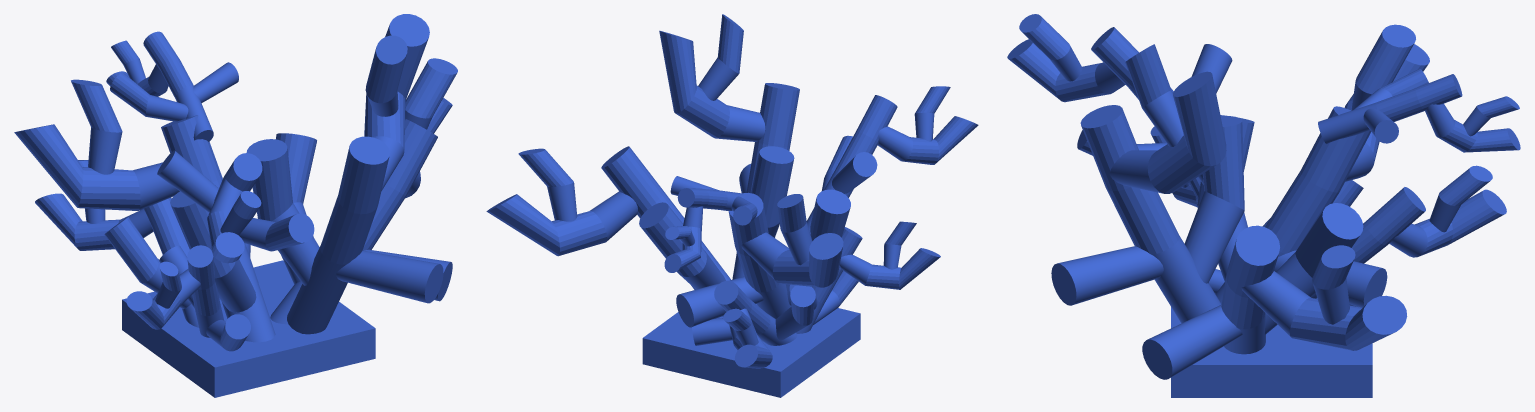
File: Sango(Blue).fbx
3 renders of one model, left to right at view 1: azimuth 30°, elevation 25°; view 2: azimuth 150°, elevation 25°; view 3: azimuth 270°, elevation 25°, orthographic. The views are drawn at different scales.
Visible parts, largest first — view 1: pCylinder15; view 2: pCylinder15; view 3: pCylinder15.
Part boxes in pixels (x1,y1,x2,y2): pCylinder15: [14, 14, 457, 397]; pCylinder15: [486, 14, 978, 397]; pCylinder15: [1007, 14, 1520, 397].
Bounding box in the file's own units: 16.83 × 12.48 × 16.31.
